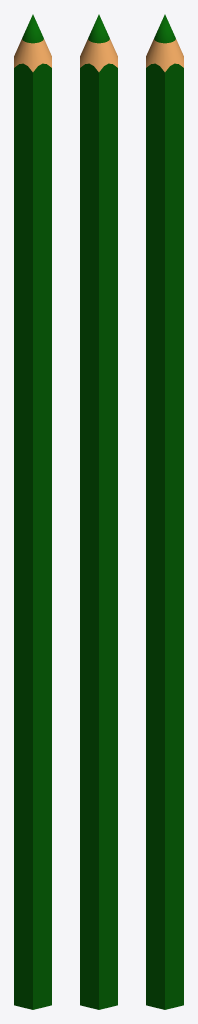
File: potlood-Dgroen.fbx
3 views of the same model, side by side, from view 1: azimuth 30°, elevation 25°; view 2: azimuth 210°, elevation 25°; view 3: azimuth 270°, elevation 25° (orthographic).
Visible parts, largest first — view 1: Model; view 2: Model; view 3: Model.
Boxes of the visible parts, x1=… form: Model: x1=14, y1=14, x2=51, y2=1009; Model: x1=80, y1=14, x2=117, y2=1009; Model: x1=146, y1=14, x2=183, y2=1009.
Size of the model in its own units: 80 by 2000 by 69.28.
